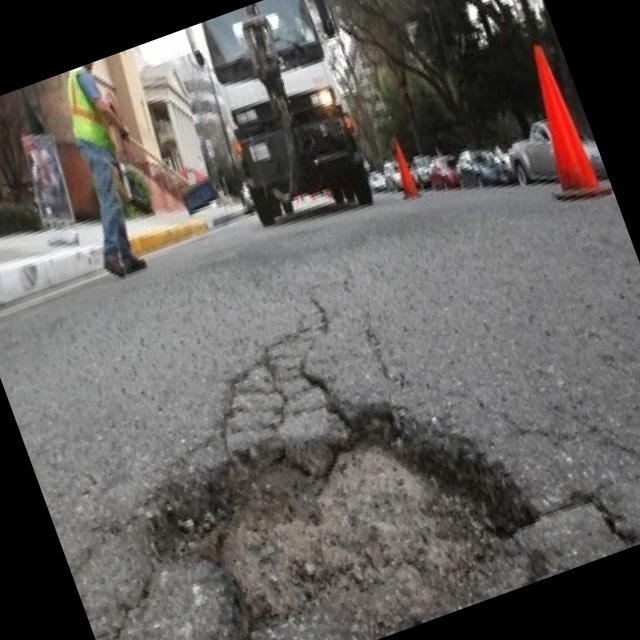Potholes: (98, 315, 633, 640)
